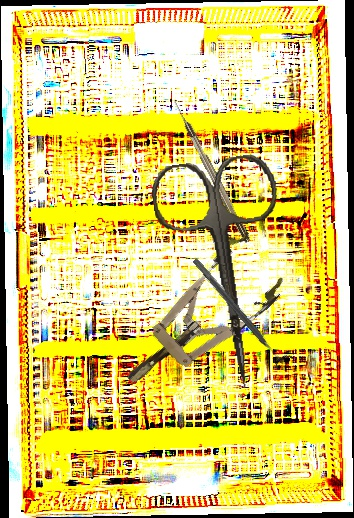Fixation Ring: (186, 252, 294, 372)
Hook Surgical: (170, 96, 252, 245)
Iris Scissors: (148, 151, 304, 397)
Speculum: (102, 224, 295, 410)
